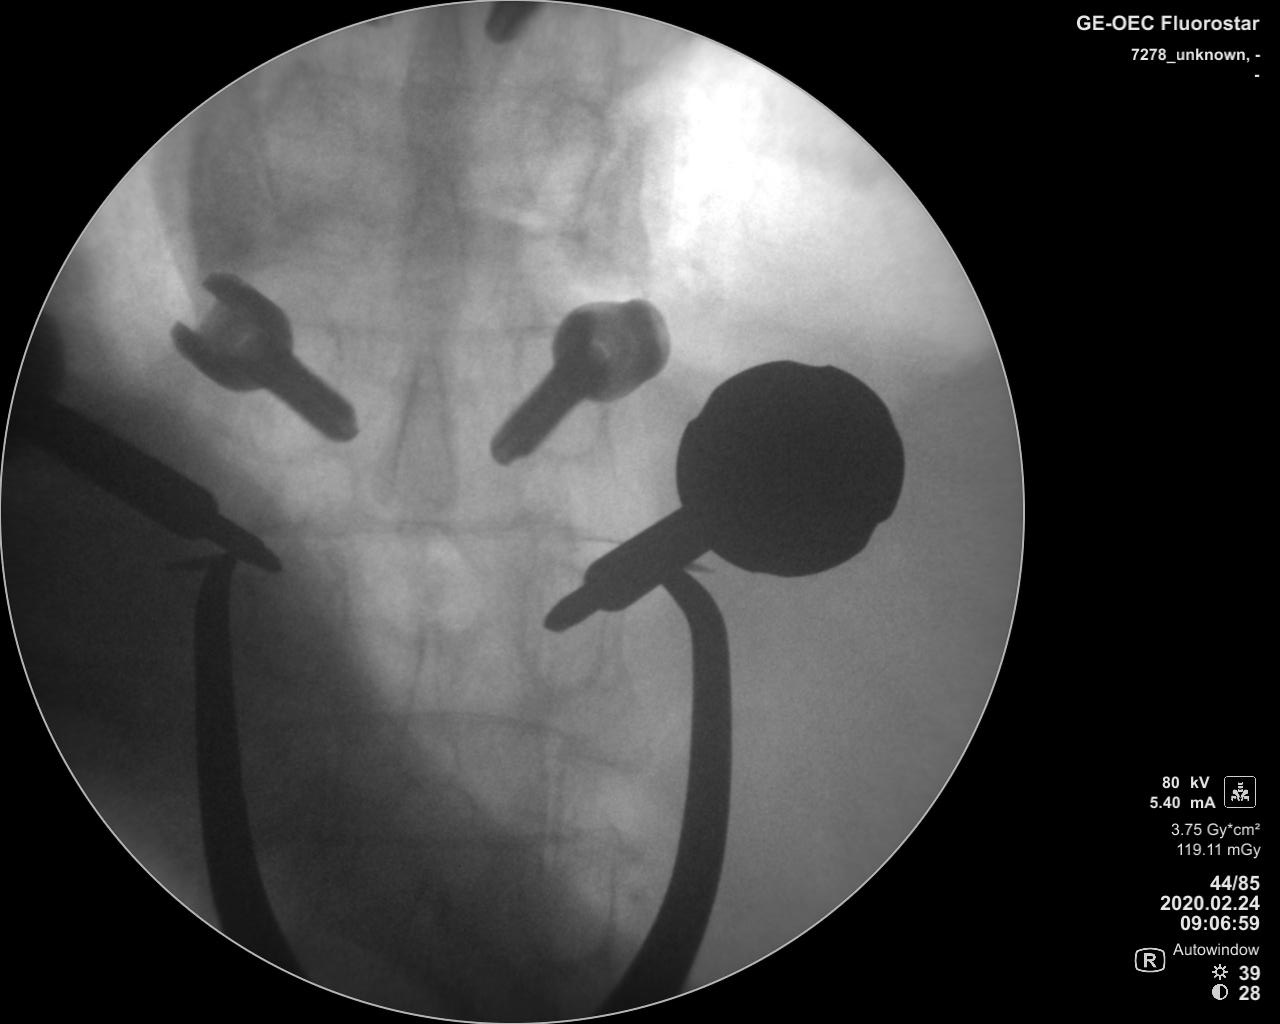eyes: (511, 831, 619, 968), (255, 98, 355, 223), (516, 557, 604, 699), (254, 551, 344, 684), (513, 98, 606, 217), (516, 334, 603, 457), (240, 350, 333, 464)
line: (254, 510, 613, 545), (254, 705, 583, 741), (299, 66, 560, 104), (287, 830, 587, 858), (292, 316, 548, 348)
nose: (394, 600, 462, 792), (386, 348, 459, 517), (398, 155, 471, 320), (400, 9, 469, 133)
